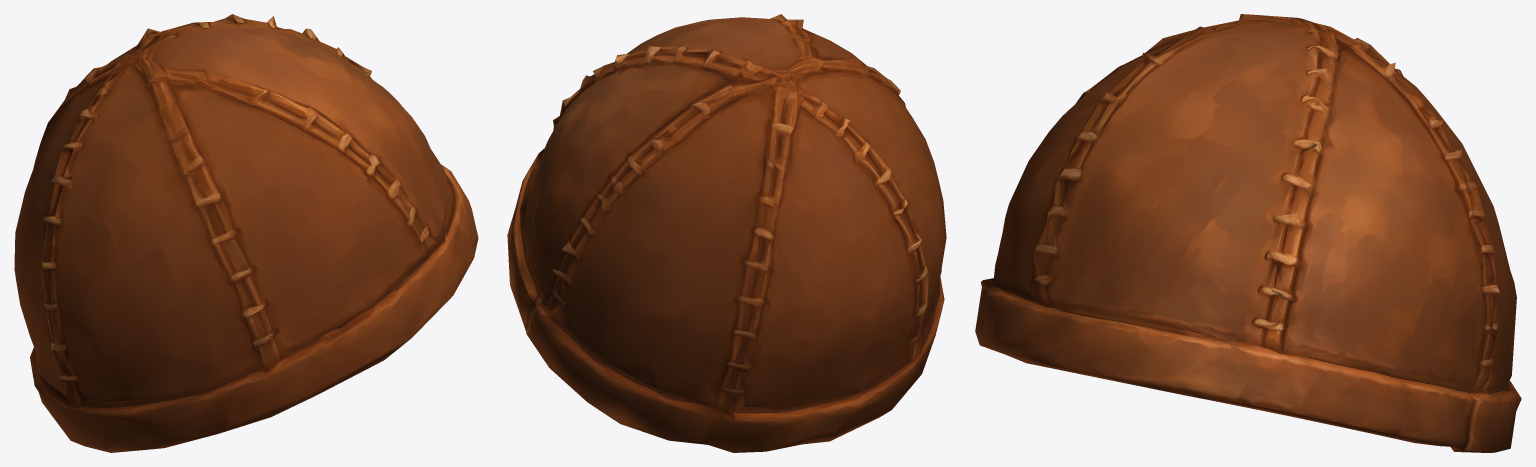
3 renders of one model, left to right at view 1: azimuth 30°, elevation 25°; view 2: azimuth 150°, elevation 25°; view 3: azimuth 270°, elevation 25°, orthographic. The views are drawn at different scales.
Visible parts, largest first — view 1: tripo_node_df5f7cdd-ec3f-412a-97ba-64007a616f48; view 2: tripo_node_df5f7cdd-ec3f-412a-97ba-64007a616f48; view 3: tripo_node_df5f7cdd-ec3f-412a-97ba-64007a616f48.
Boxes of the visible parts, x1,y1,x2,y2 form: tripo_node_df5f7cdd-ec3f-412a-97ba-64007a616f48: (14, 14, 478, 452); tripo_node_df5f7cdd-ec3f-412a-97ba-64007a616f48: (507, 14, 946, 452); tripo_node_df5f7cdd-ec3f-412a-97ba-64007a616f48: (975, 14, 1521, 452).
Bounding box in the file's own units: 0.9952 × 0.8656 × 1.
1 material, 1 textured.
